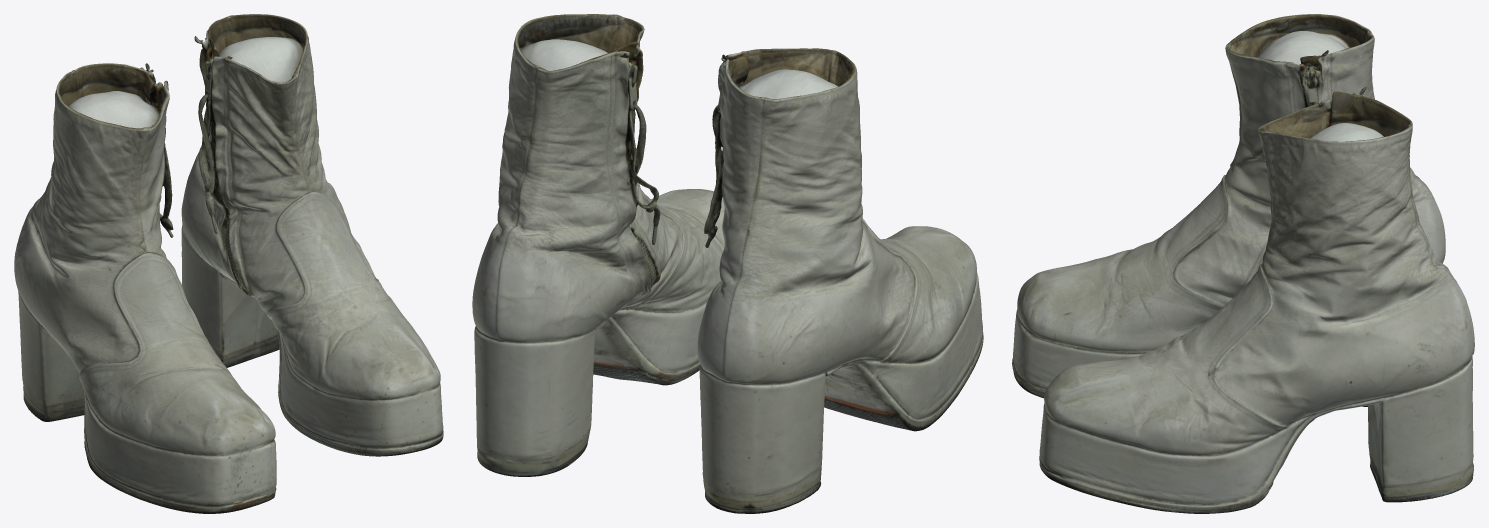
The model's file is shoe01.glb.
The picture shows the model from 3 angles, left to right: view 1: azimuth 30°, elevation 25°; view 2: azimuth 150°, elevation 25°; view 3: azimuth 270°, elevation 25°; orthographic projection. The views are drawn at different scales.
Visible parts, largest first — view 1: Object_2, Object_4, Object_5, Object_3; view 2: Object_4, Object_2, Object_5, Object_3; view 3: Object_2, Object_4, Object_5, Object_3.
Boxes of the visible parts, left/top/right/bottom form: Object_2: left=181, top=14, right=443, bottom=456; Object_4: left=16, top=63, right=276, bottom=513; Object_5: left=14, top=91, right=275, bottom=513; Object_3: left=181, top=32, right=338, bottom=253; Object_4: left=697, top=48, right=979, bottom=513; Object_2: left=472, top=14, right=724, bottom=476; Object_5: left=697, top=48, right=983, bottom=513; Object_3: left=474, top=14, right=658, bottom=360; Object_2: left=1039, top=91, right=1474, bottom=513; Object_4: left=1012, top=14, right=1445, bottom=406; Object_5: left=1013, top=14, right=1443, bottom=406; Object_3: left=1238, top=87, right=1474, bottom=370.
Bounding box in the file's own units: 0.3319 × 0.3527 × 0.4029.
2 materials, 2 textured.
